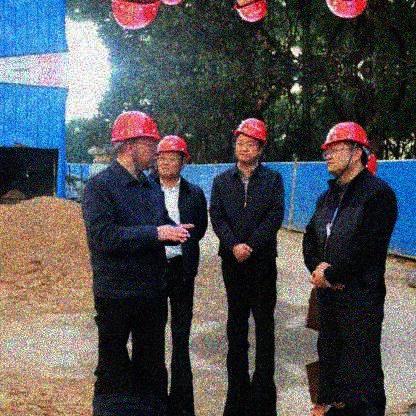helmet: (112, 110, 159, 173), (319, 123, 368, 177), (232, 117, 268, 170), (158, 134, 190, 180)
